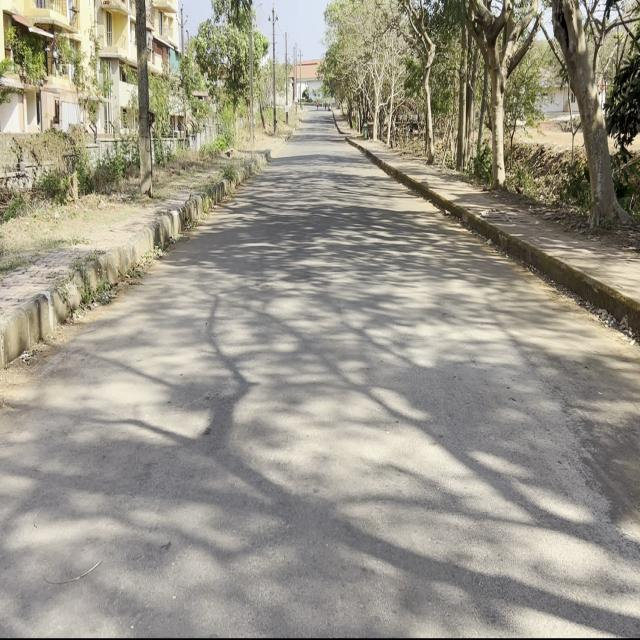Road: (2, 109, 639, 633)
